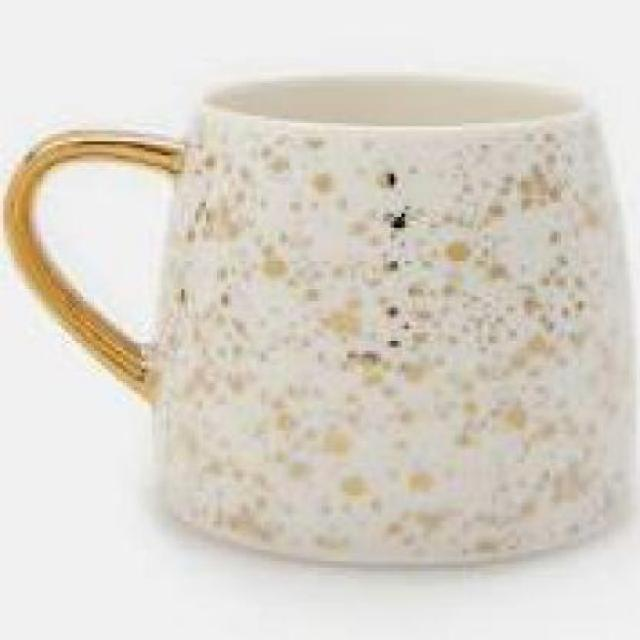cup: (0, 72, 636, 575)
